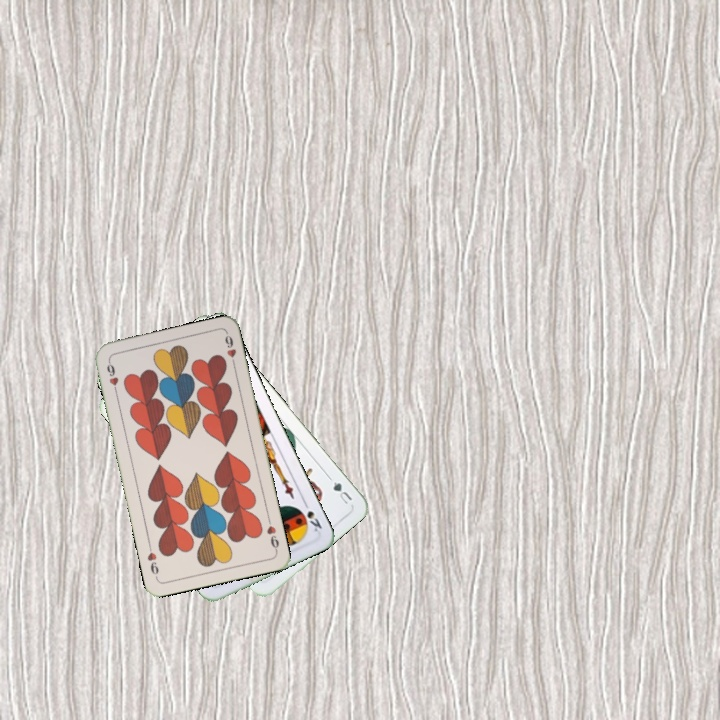GU: (329, 477, 355, 507)
H9: (263, 514, 282, 554), (103, 356, 121, 397)
SK: (299, 496, 325, 534)
